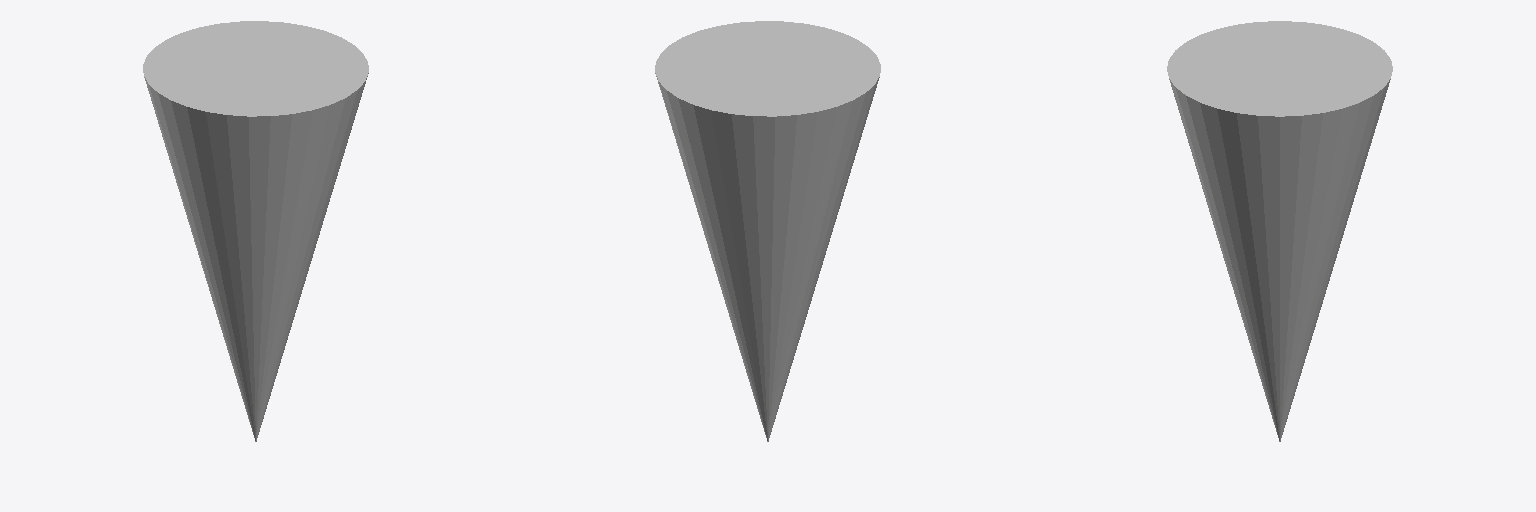
Rendered from aaaaa.obj.
3 views of the same model, side by side, from view 1: azimuth 30°, elevation 25°; view 2: azimuth 150°, elevation 25°; view 3: azimuth 270°, elevation 25° (orthographic).
Parts seen in each view (by area): view 1: Cone; view 2: Cone; view 3: Cone.
Part boxes in pixels (left/top/right/bottom): Cone: left=143, top=21, right=368, bottom=441; Cone: left=655, top=21, right=880, bottom=441; Cone: left=1167, top=21, right=1392, bottom=441.
Size of the model in its own units: 0.5326 by 0.971 by 0.5326.